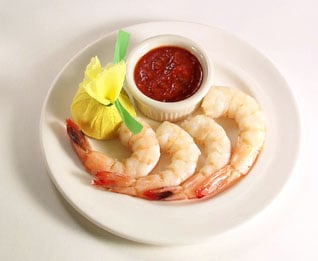sushi: (123, 34, 215, 122)
